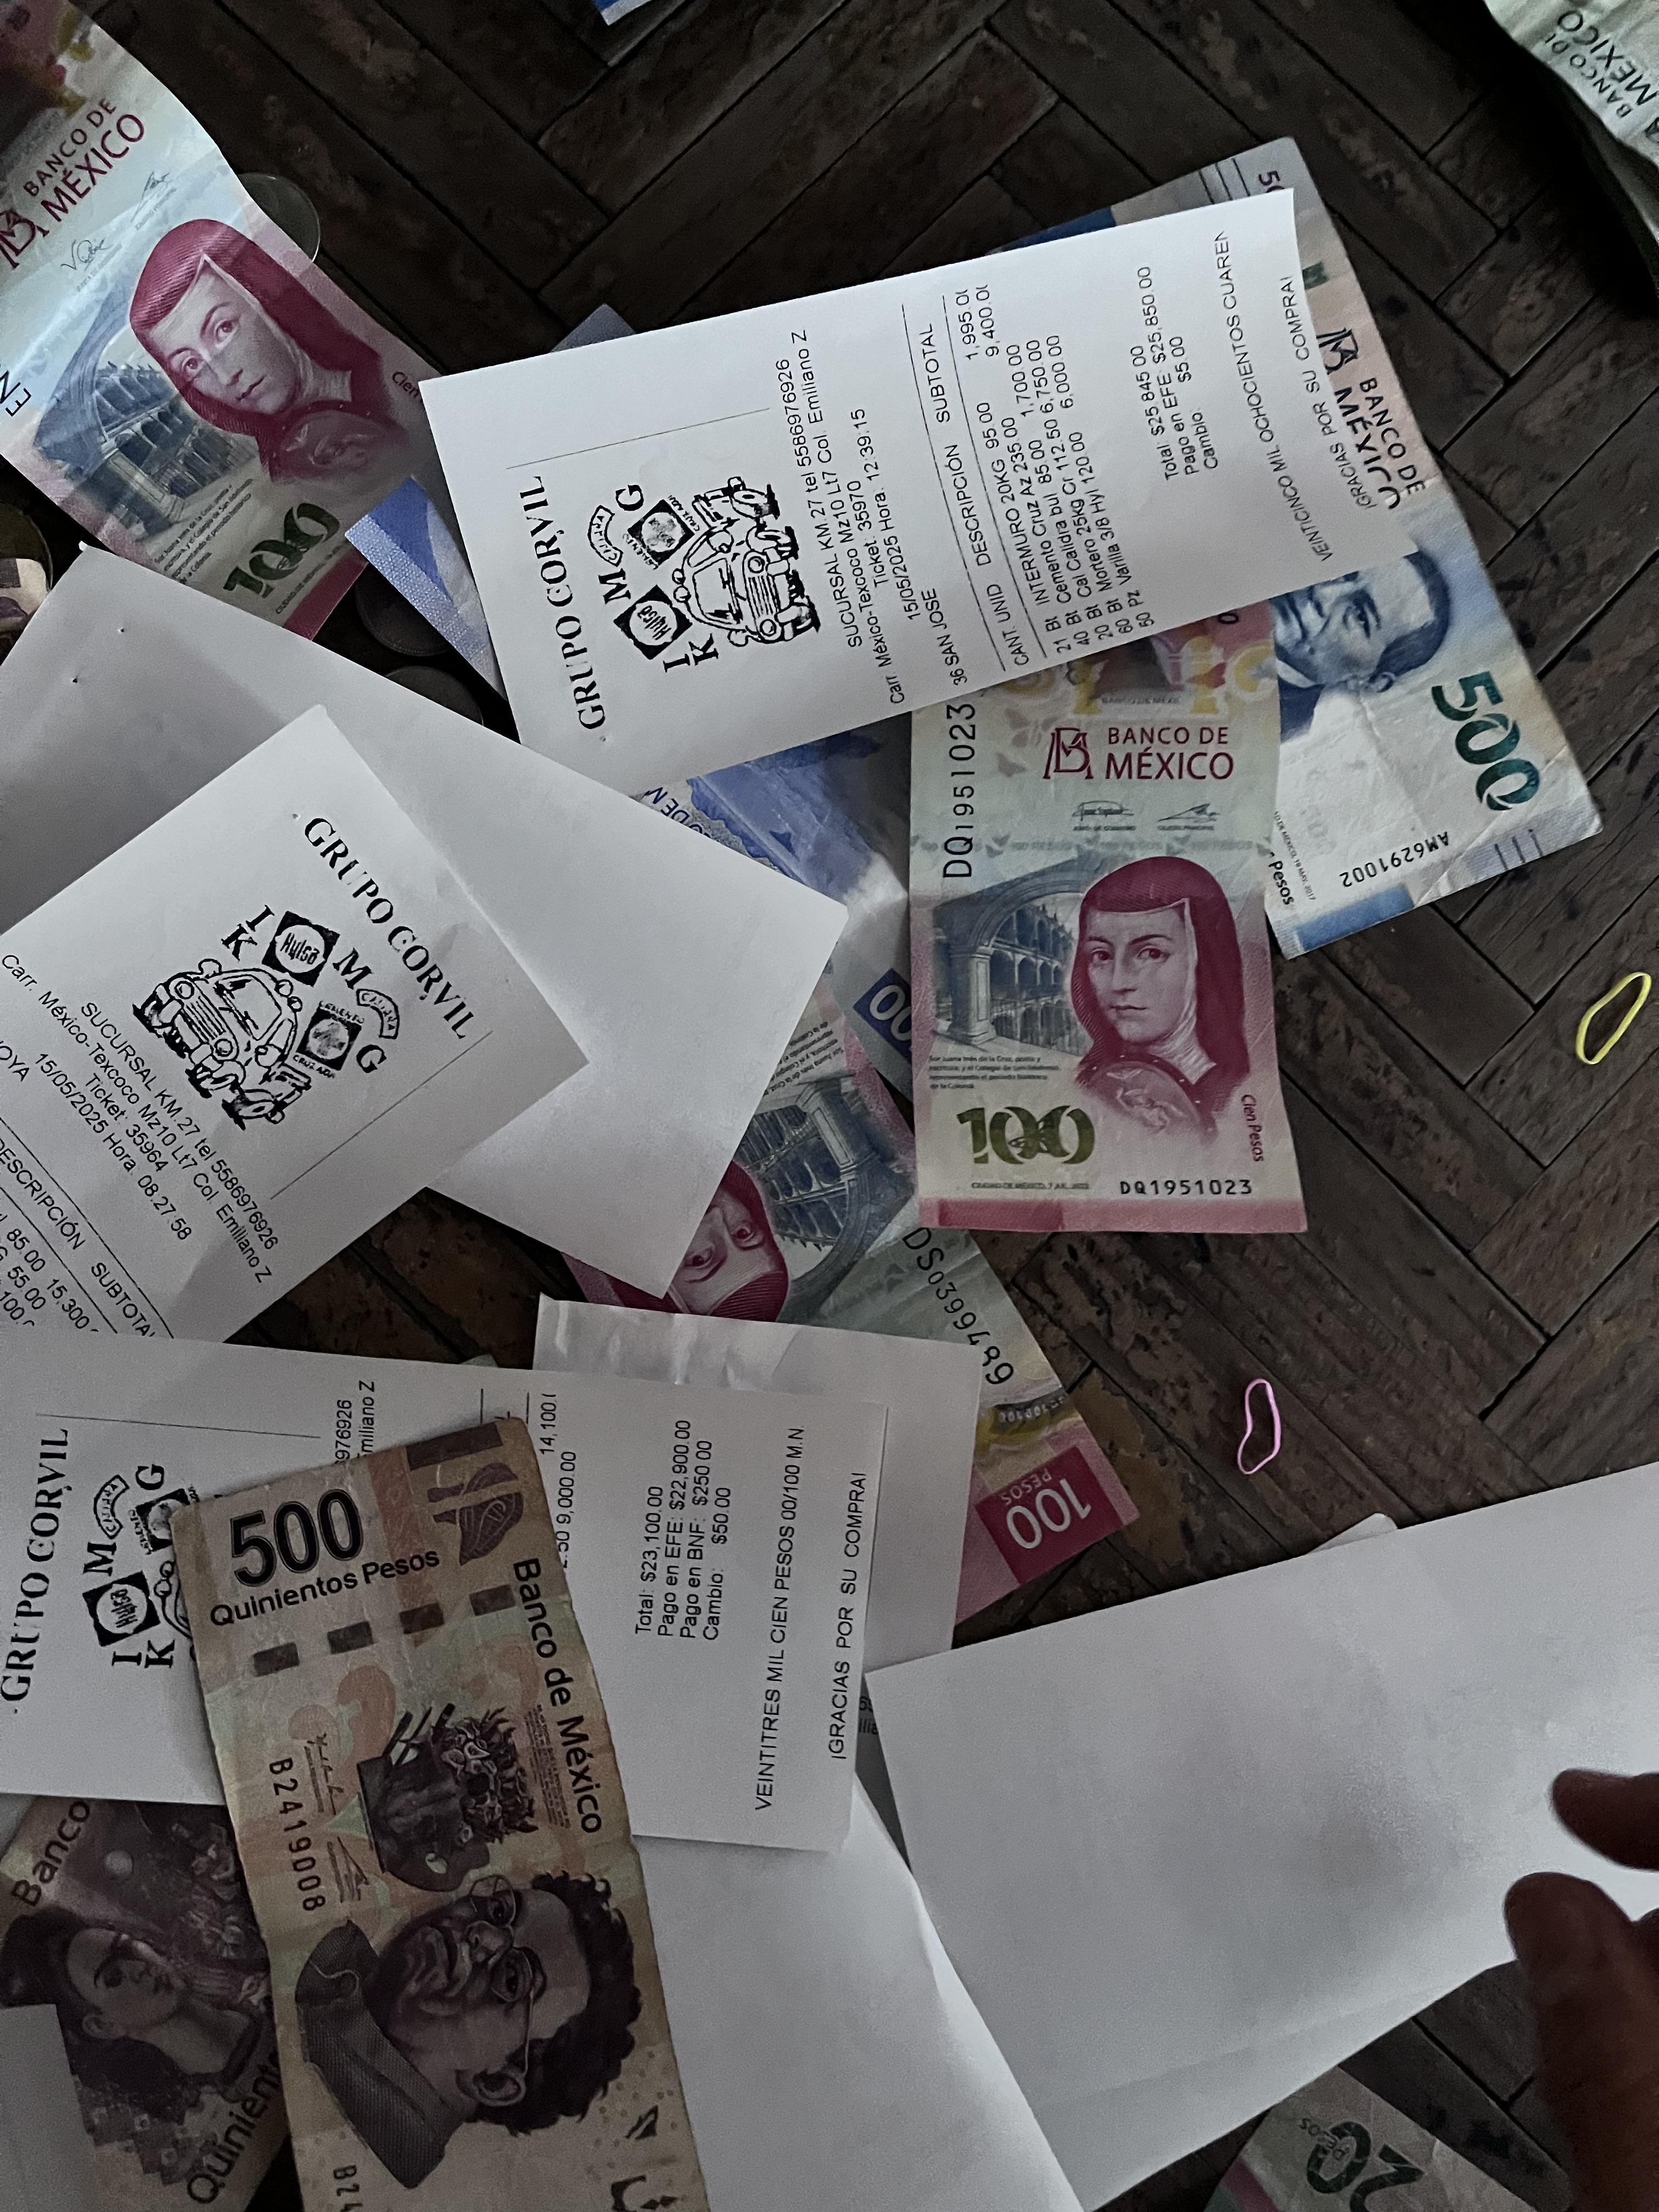100: (549, 958, 1202, 1658), (870, 486, 1321, 1278), (0, 0, 483, 653)
500: (145, 1399, 749, 2212), (0, 1700, 444, 2212)
500 nuevo: (962, 108, 1605, 993)
